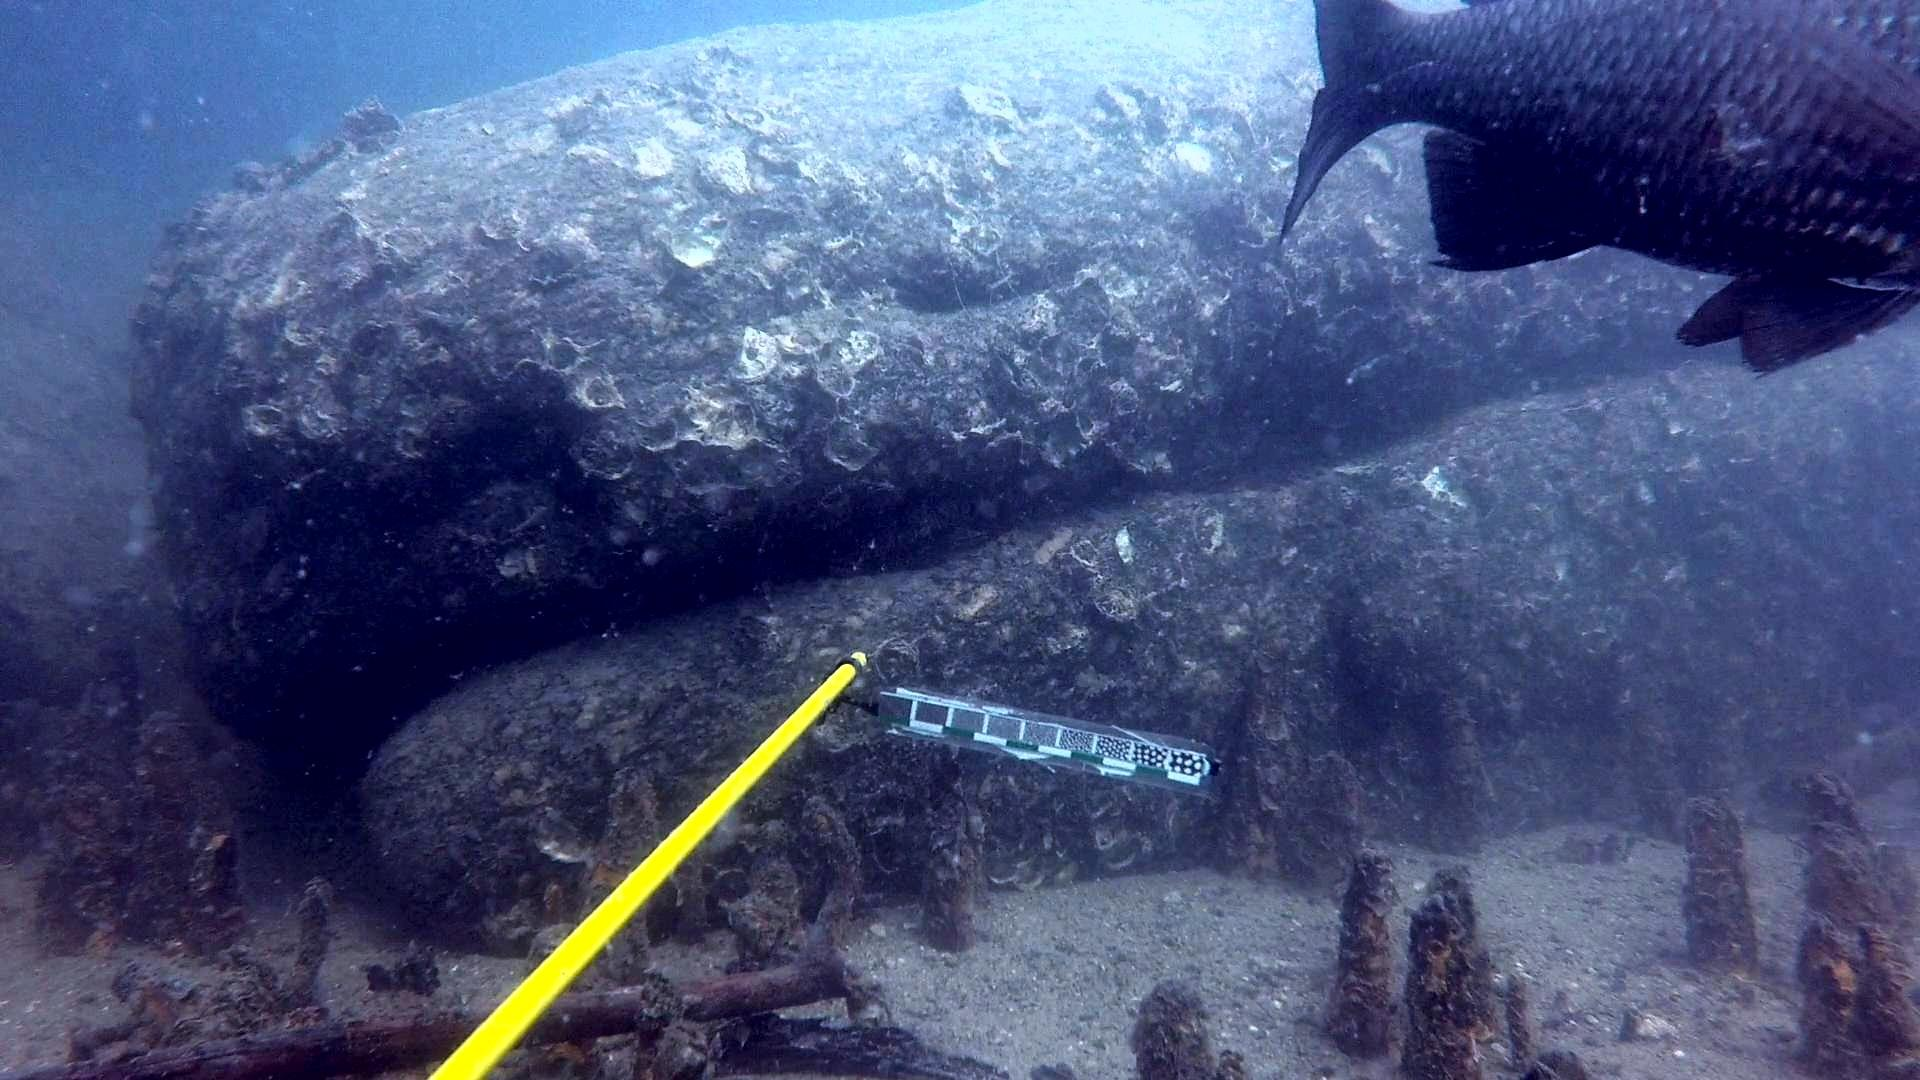acanthopagrus palmaris: (1258, 0, 1920, 384)
